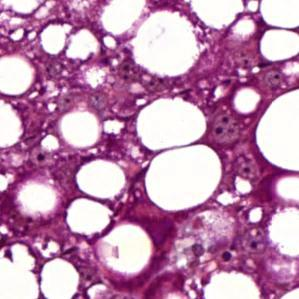steatosis: (144, 142, 225, 213), (134, 100, 210, 149), (72, 159, 131, 197)
